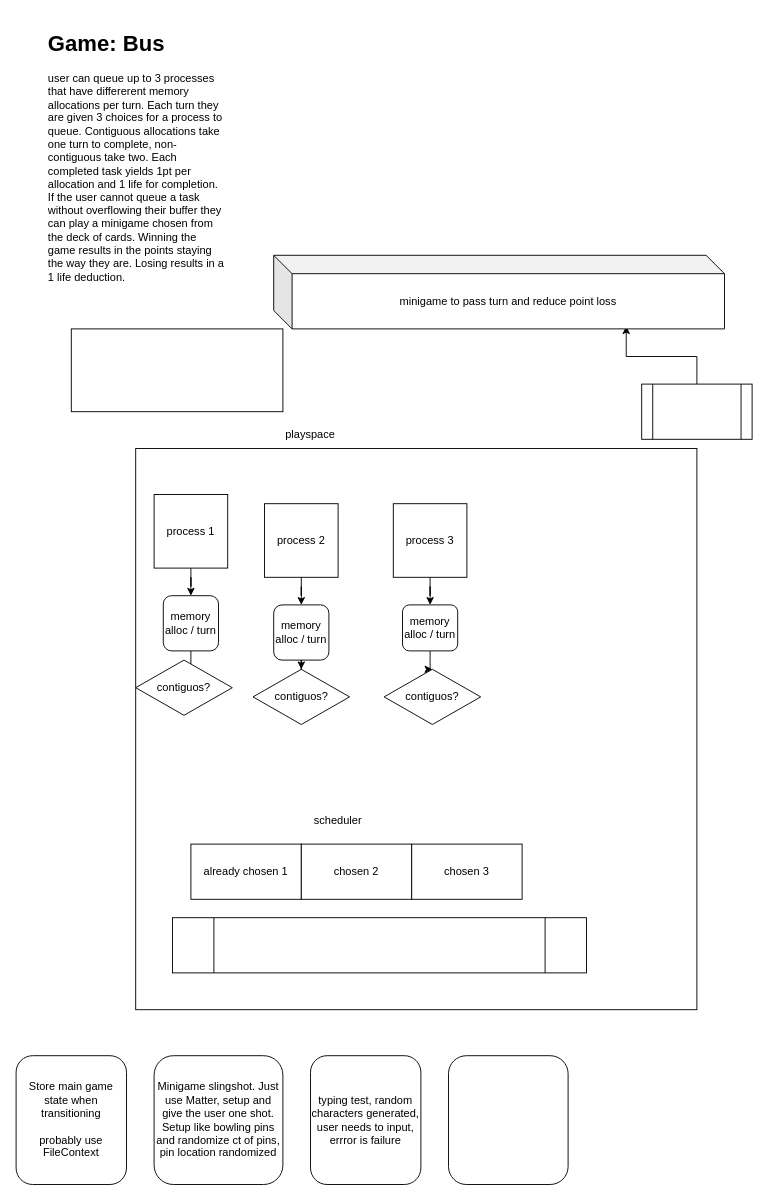
The diagram is 768 pixels wide and 1201 high, and some of its shapes have lost their labels. Each missing label, with the centre of its shape:
# tasks completed lives: ######: point (176, 370)
Deck of cards: point (696, 411)
User's shared mem buffer: point (379, 945)
